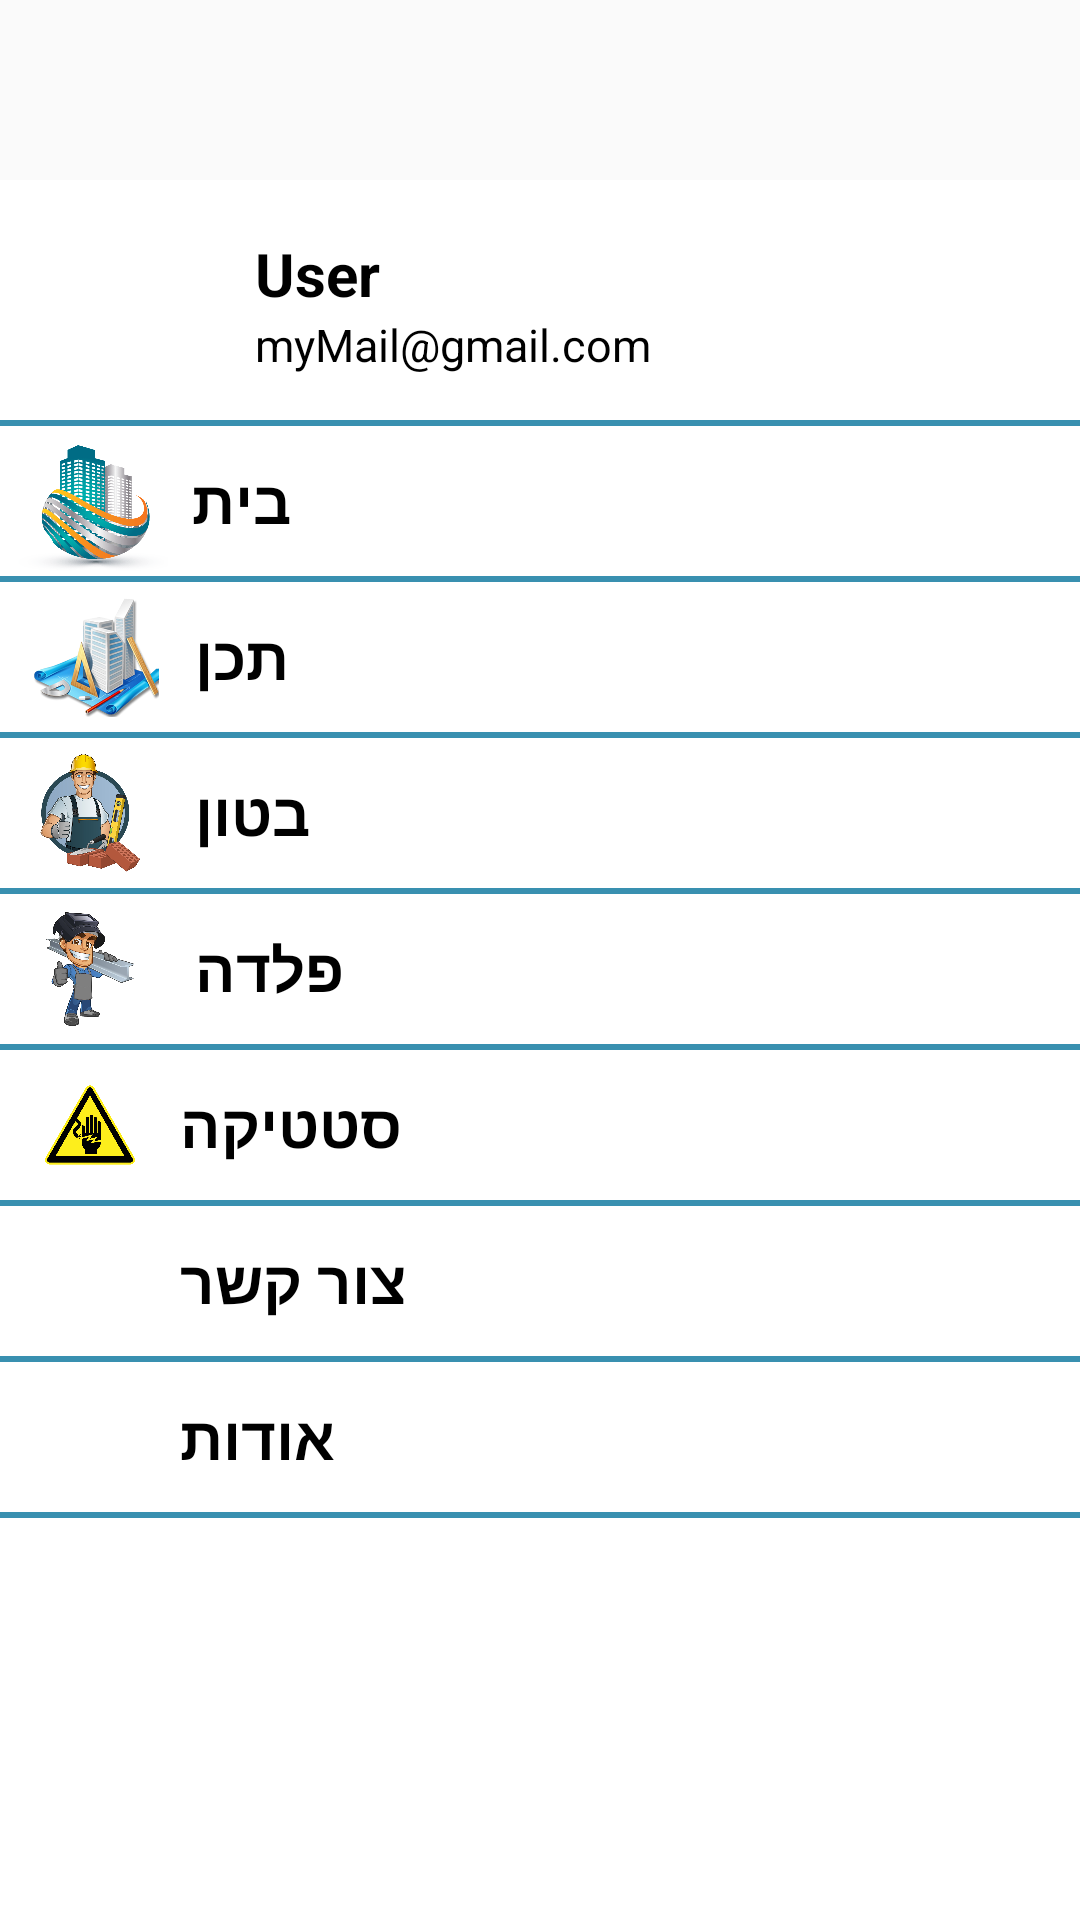

Where to tap for icons on this 1080*1920 app screen, as [x,y]:
concrete: [90,813]
design: [96,658]
steel: [90,969]
